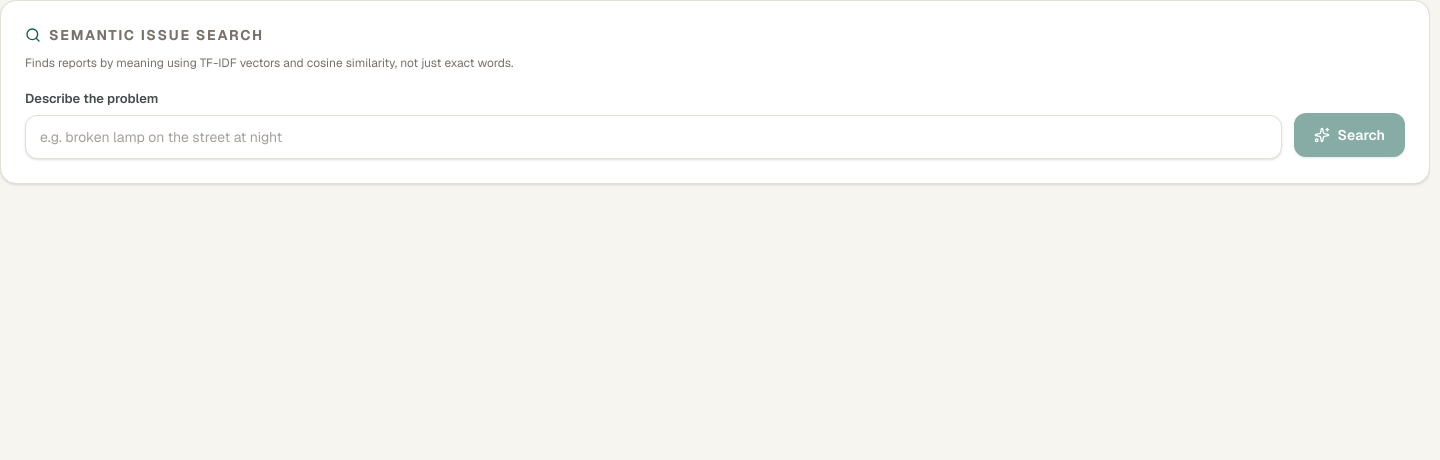
SemanticSearch › shows an empty state when no reports match
Type "unknown" into the field labelled "Describe the problem". click: (653, 136)
box: [25,114,1282,158]
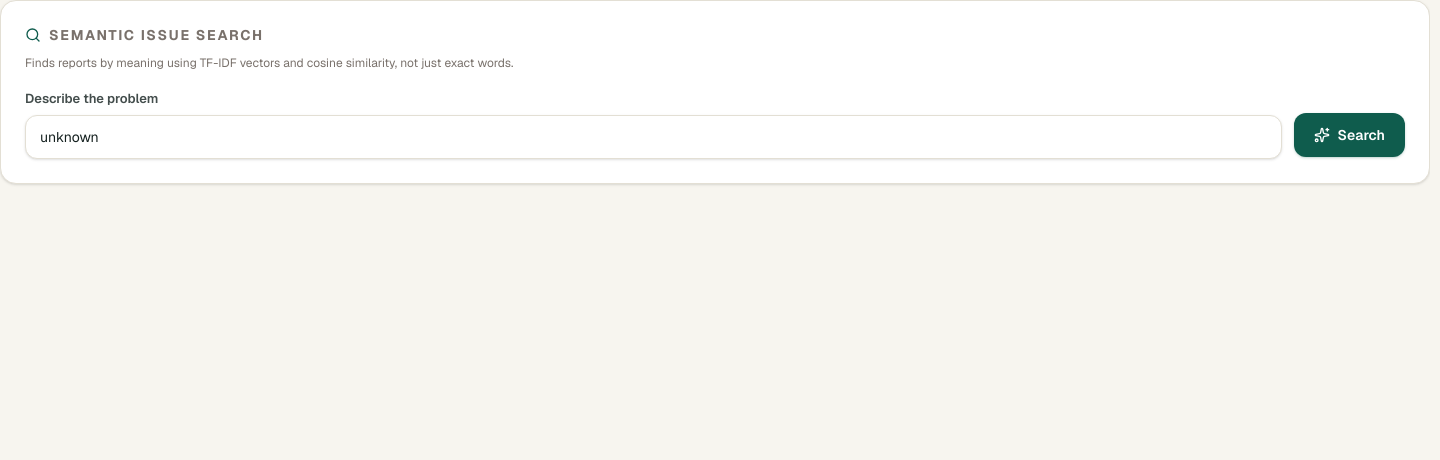
Click the button "Search". click: (1349, 134)
box: [1294,112,1405,156]
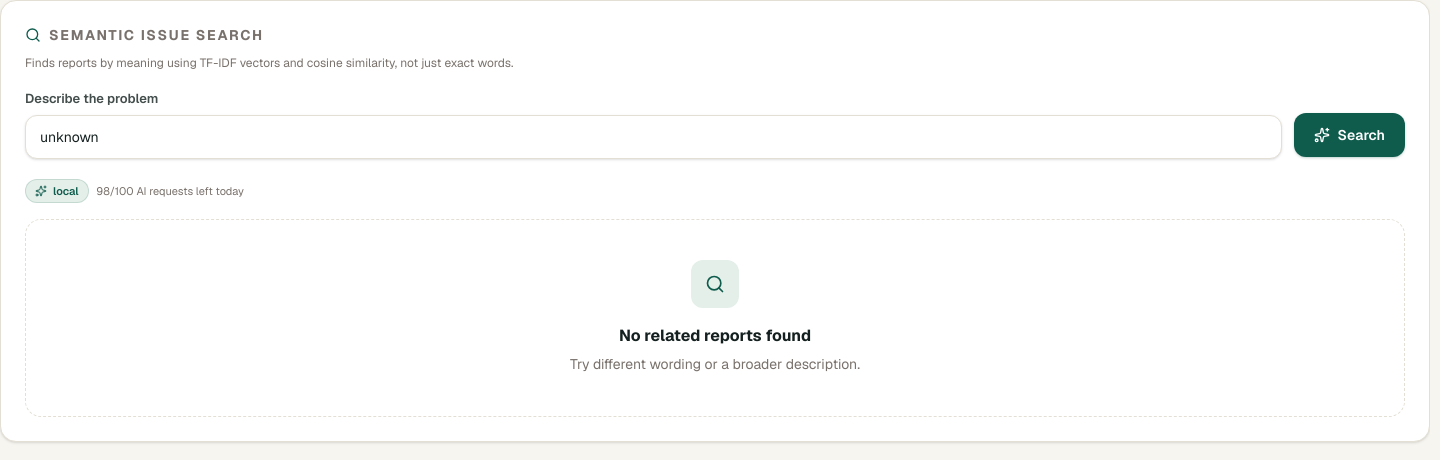
Expected: the heading "No related reports found" is shown, [619,324,811,348]
